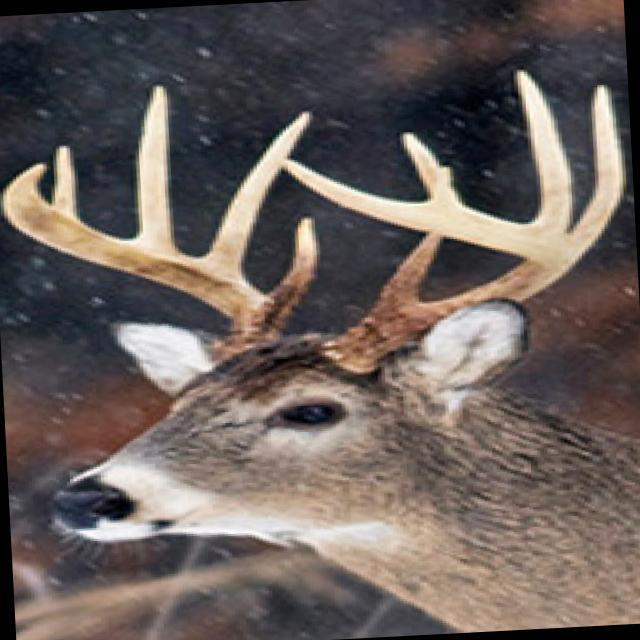L-F: (285, 158, 592, 376)
L-G1: (364, 230, 444, 317)
L-G2: (569, 83, 628, 248)
L-G3: (511, 67, 577, 233)
L-G4: (397, 130, 469, 210)
R-G1: (265, 214, 321, 322)
R-G2: (196, 109, 315, 283)
R-G3: (131, 84, 182, 253)
R-G4: (51, 142, 84, 223)
